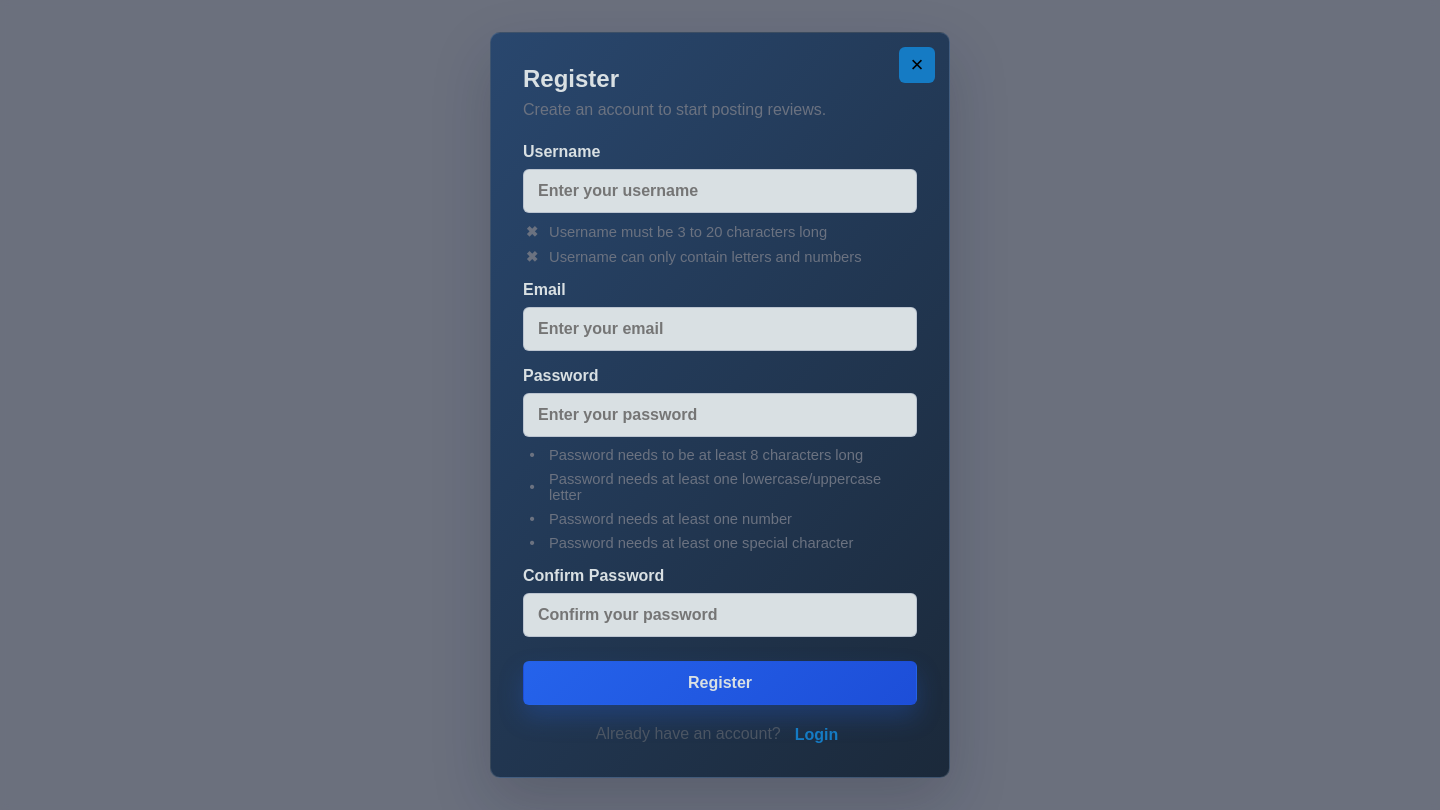
Test: AuthModal register validation › shows an error for weak password on submit
The image size is (1440, 810).
Type "ValidUser1" into the field labelled "Username" at (720, 191), box top-left (523, 169), bottom-right (917, 213)
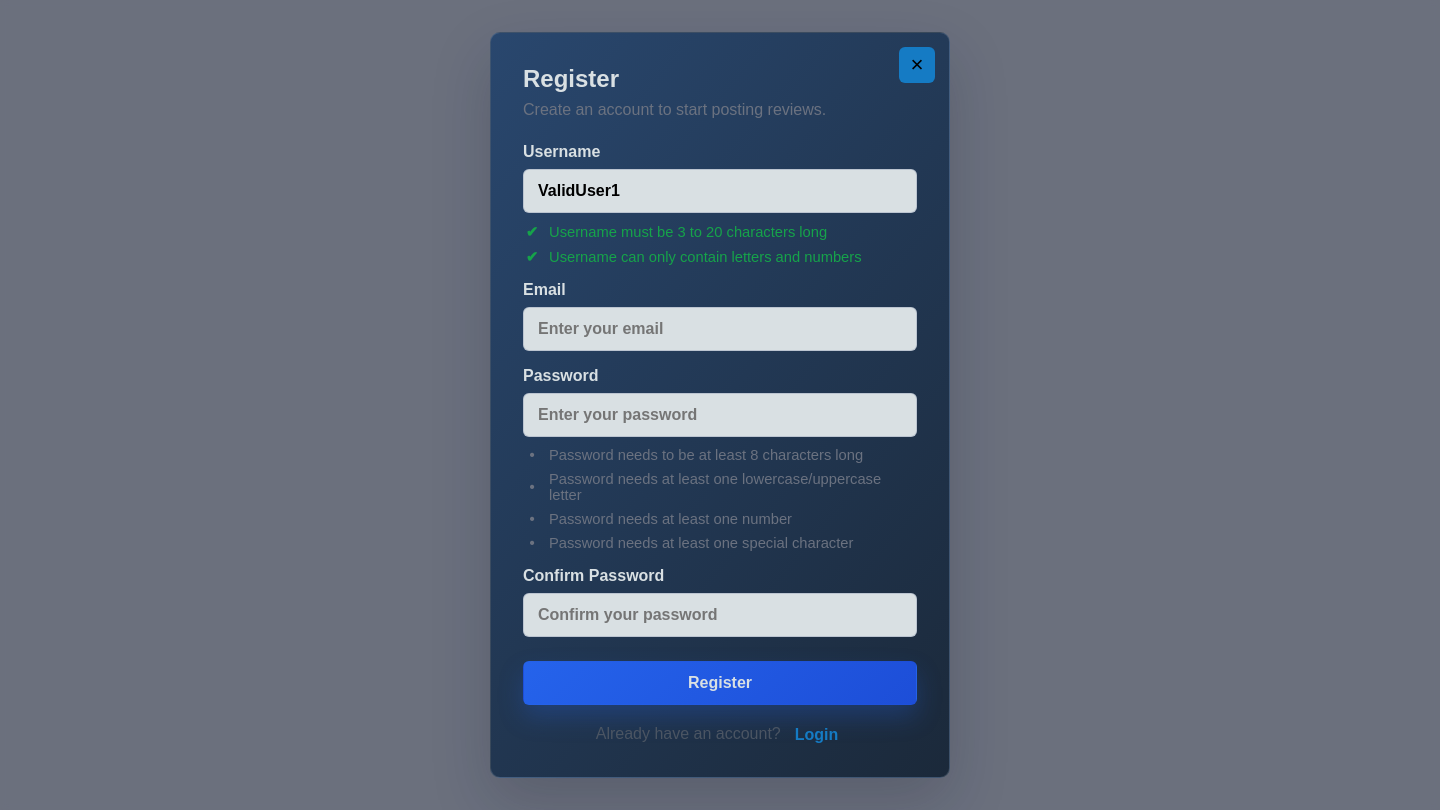
Type "test@example.com" into the field labelled "Email" at (720, 329), box top-left (523, 307), bottom-right (917, 351)
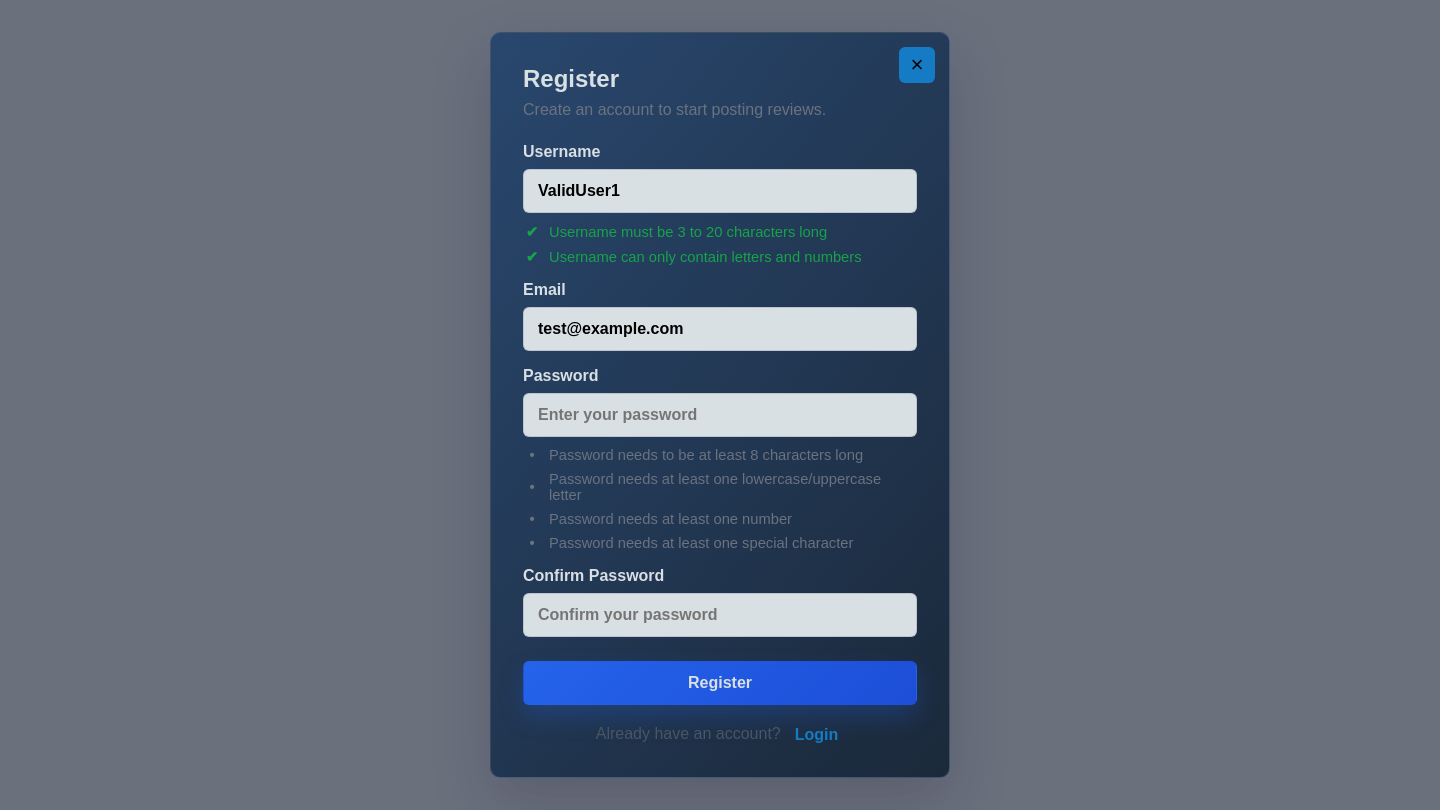
Type "weakpass" into the password field labelled "Password" at (720, 415), box top-left (523, 393), bottom-right (917, 437)
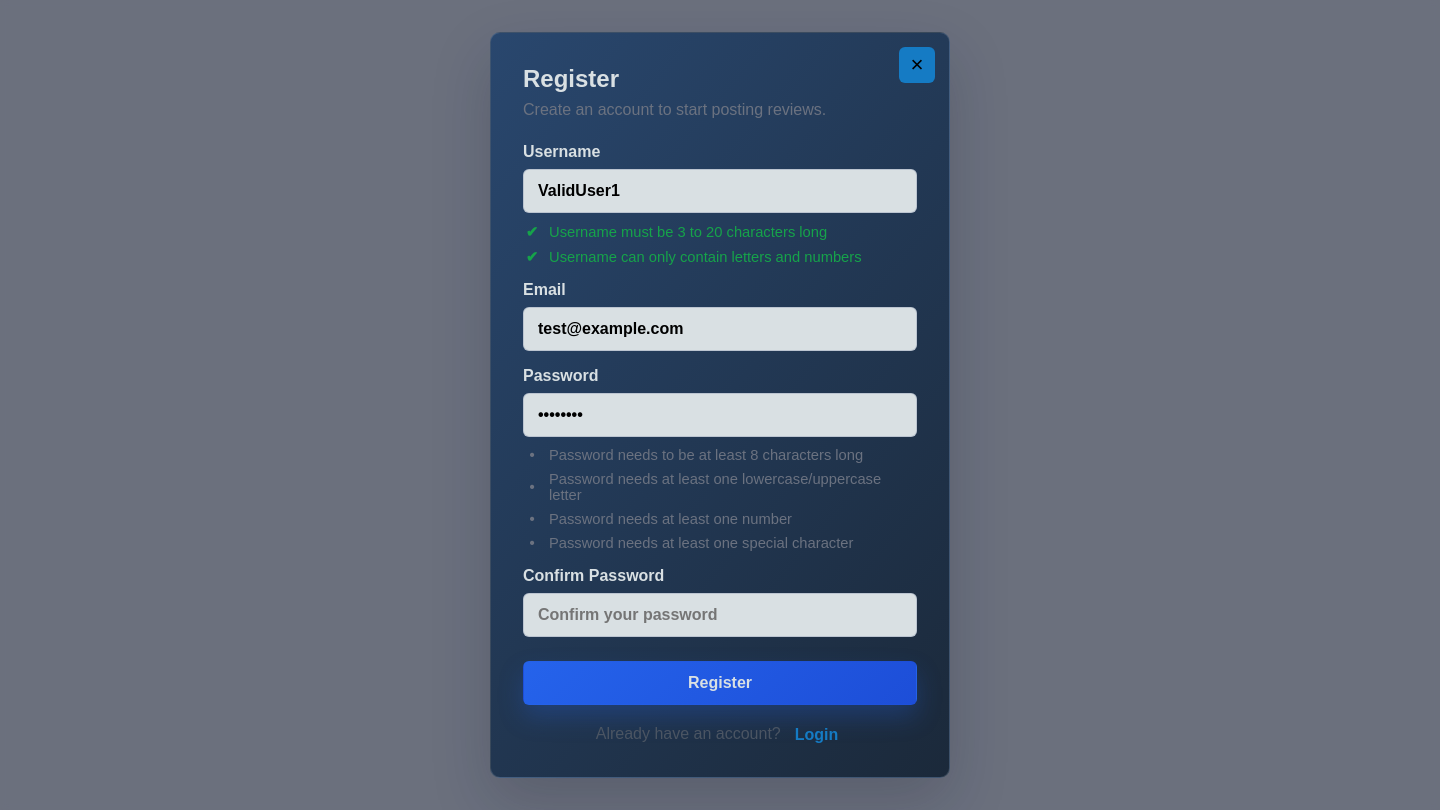
Type "weakpass" into the password field labelled "Confirm Password" at (720, 615), box top-left (523, 593), bottom-right (917, 637)
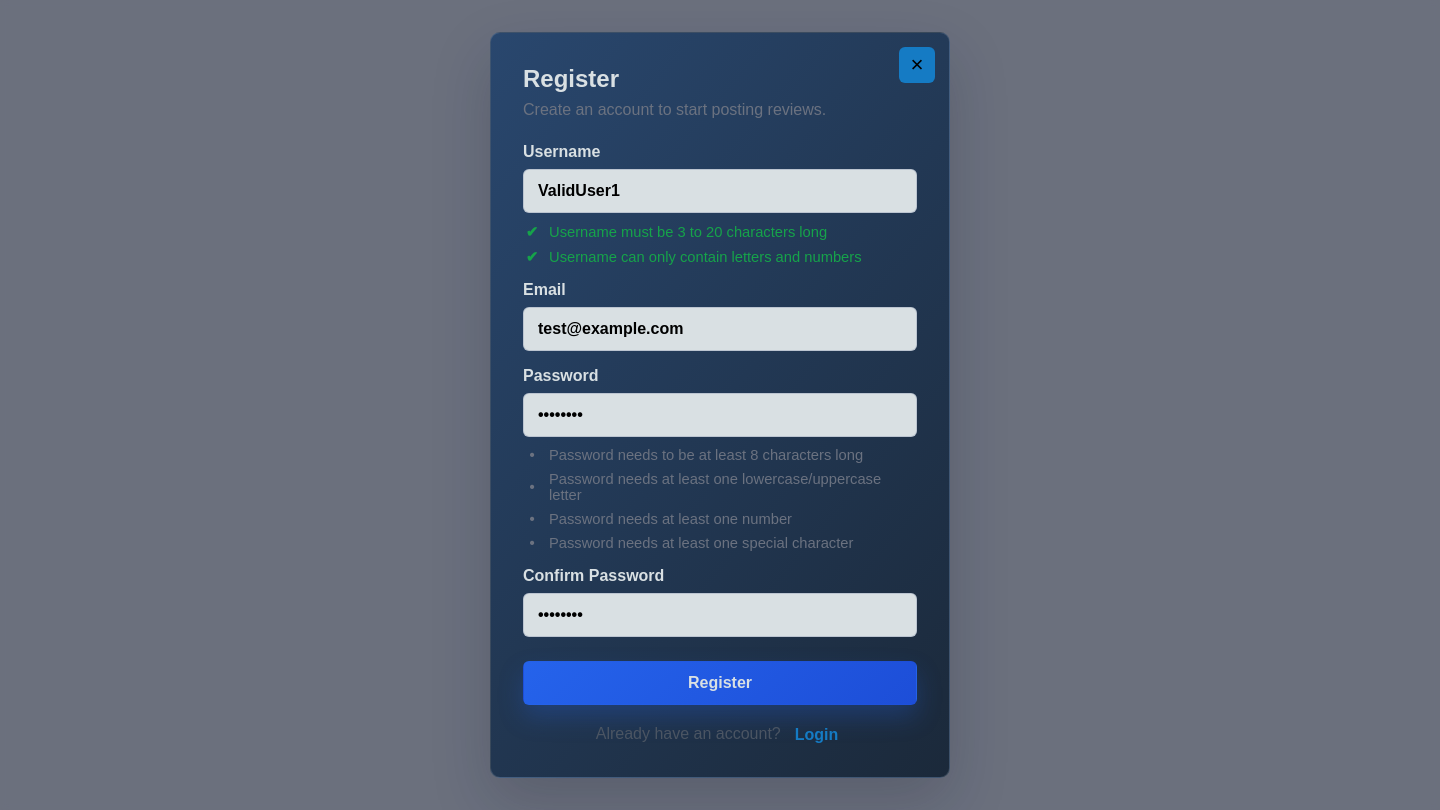
Submit the form, box top-left (523, 143), bottom-right (917, 705)
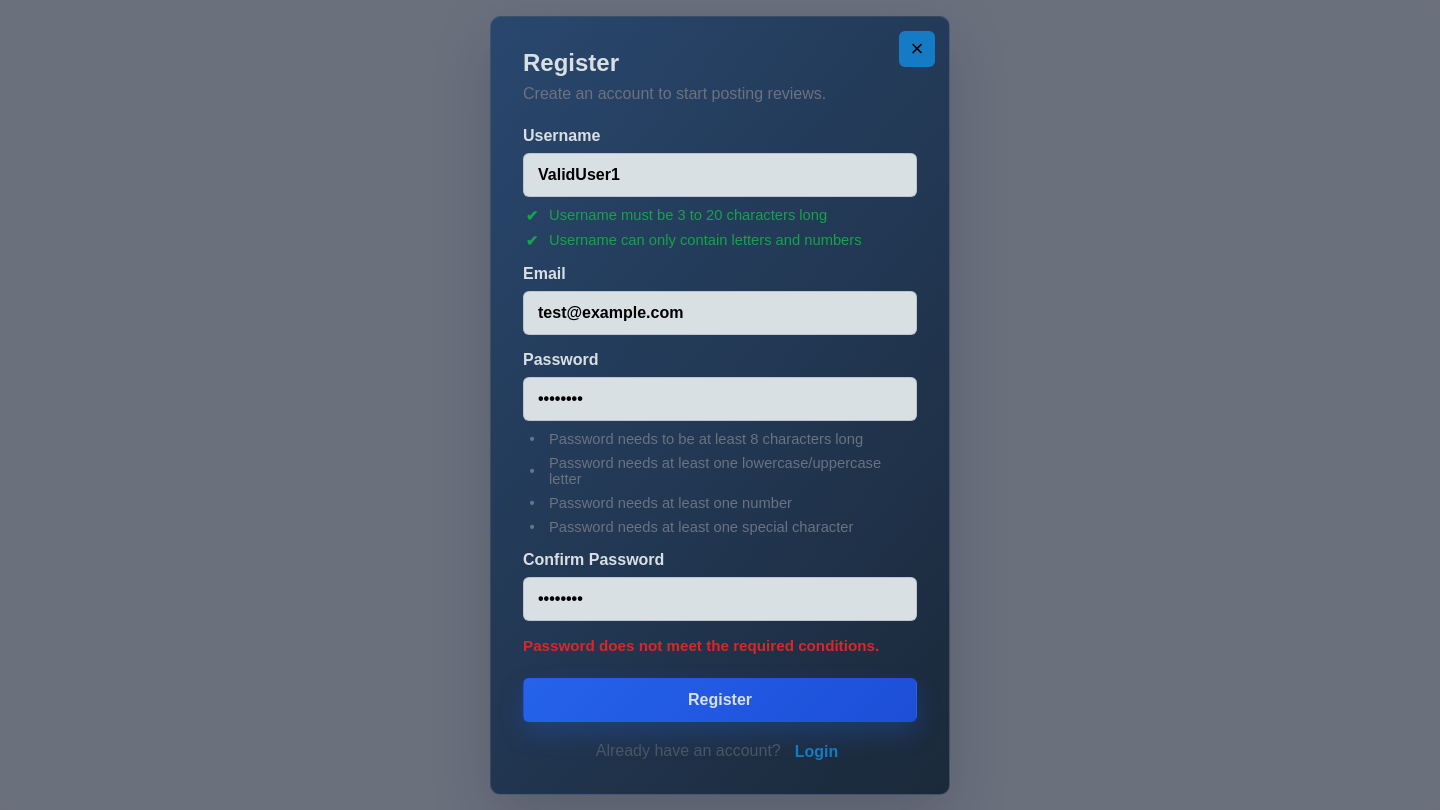
Result: the text "Password does not meet the required conditions." is shown at top-left (523, 636), bottom-right (917, 654)
